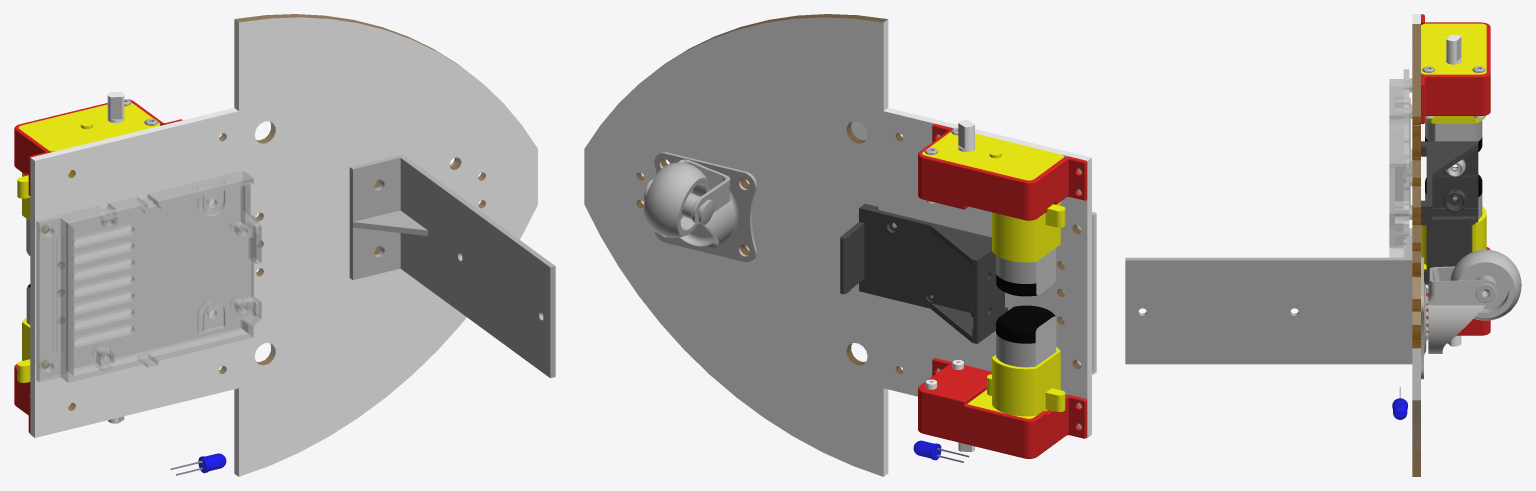
Rendered from car_body.obj.
3 renders of one model, left to right at view 1: azimuth 30°, elevation 25°; view 2: azimuth 150°, elevation 25°; view 3: azimuth 270°, elevation 25°, orthographic. The views are drawn at different scales.
Bounding box in the file's own units: 0.19 × 0.164 × 0.1381.
